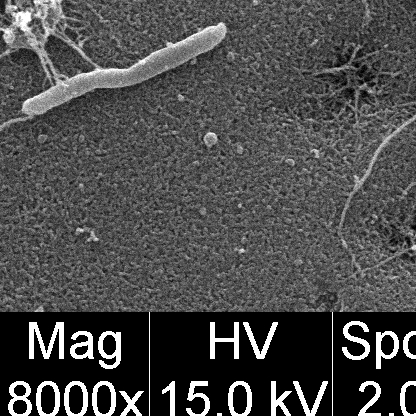cell2surface: (342, 70, 416, 224), (55, 20, 112, 74), (32, 29, 69, 83)
filament: (21, 20, 230, 122), (349, 0, 416, 75)
